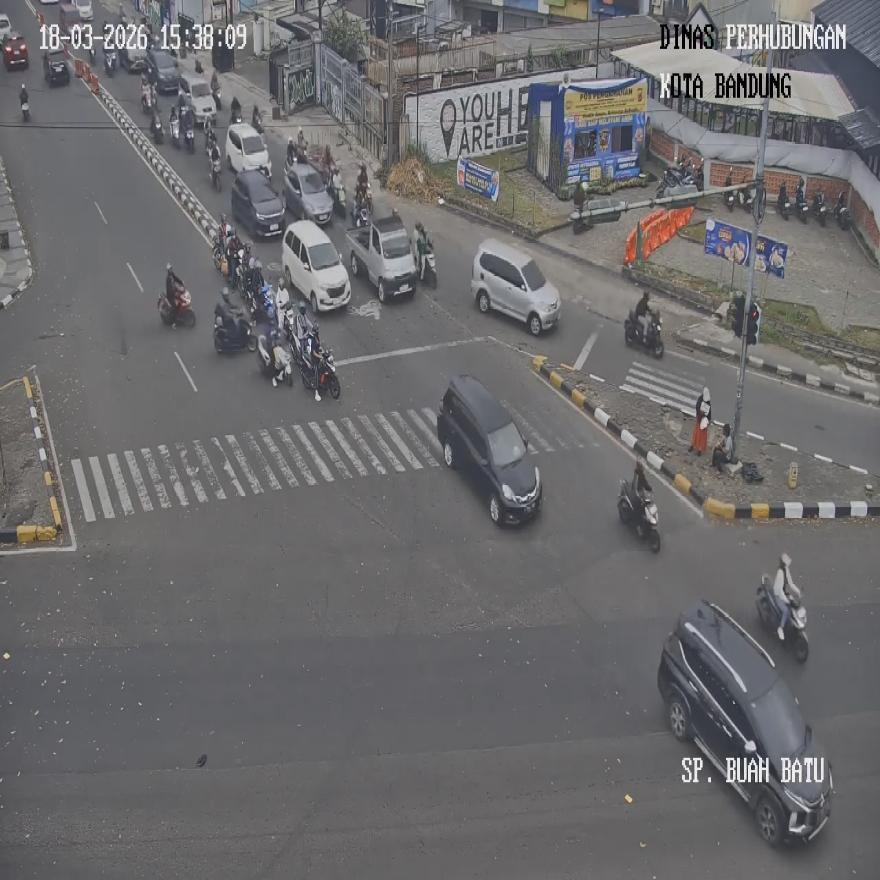Mobil: (656, 599, 834, 847), (437, 373, 542, 526), (470, 238, 560, 336), (282, 220, 352, 313), (346, 209, 416, 301), (225, 121, 272, 180)
Motor: (756, 572, 807, 661), (617, 478, 660, 552), (300, 341, 340, 401), (213, 299, 256, 352), (256, 325, 293, 386), (624, 309, 664, 358), (157, 286, 196, 329), (245, 274, 275, 325), (417, 244, 438, 287), (327, 169, 345, 218), (741, 180, 761, 215), (212, 233, 228, 275), (180, 108, 195, 152), (209, 142, 221, 189), (724, 168, 737, 211), (168, 110, 181, 148), (150, 109, 164, 143), (778, 181, 790, 220), (836, 190, 848, 228), (813, 191, 826, 226), (797, 185, 808, 221), (20, 83, 30, 122), (230, 96, 242, 124)
